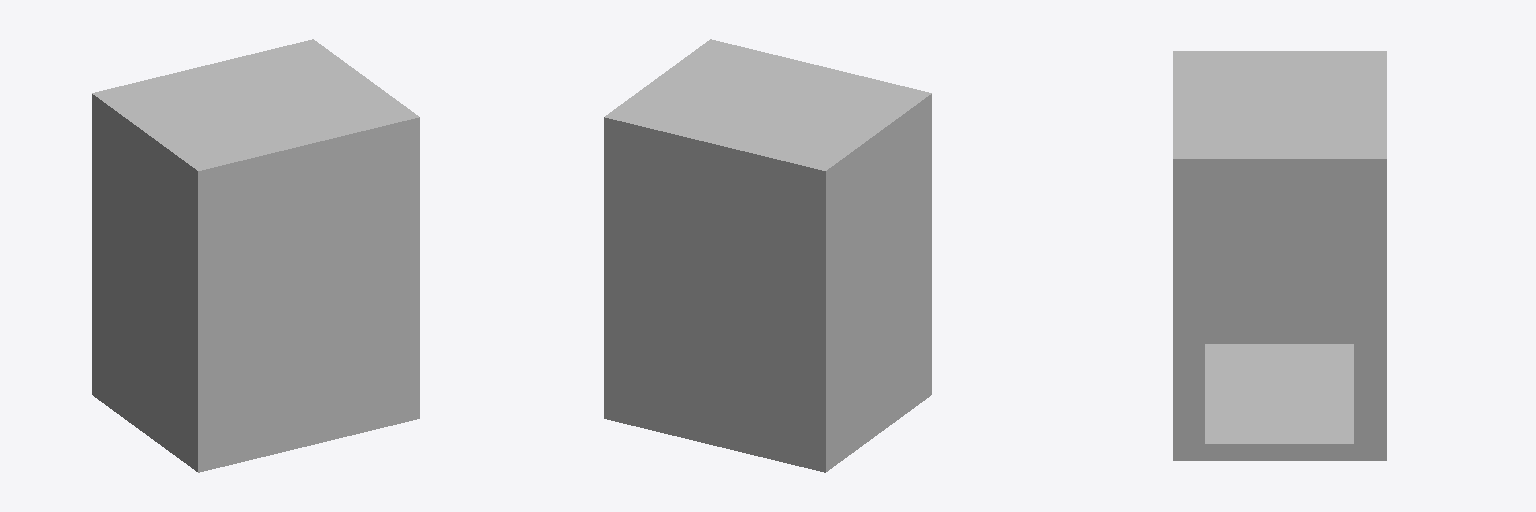
The model's file is Aufzug.obj.
The picture shows the model from 3 angles: view 1: azimuth 30°, elevation 25°; view 2: azimuth 150°, elevation 25°; view 3: azimuth 270°, elevation 25°; orthographic projection.
Visible parts, largest first — view 1: Cube_Cube.001; view 2: Cube_Cube.001; view 3: Cube_Cube.001.
Part boxes in pixels (x1,y1,x2,y2): Cube_Cube.001: (92, 39, 419, 472); Cube_Cube.001: (604, 39, 931, 472); Cube_Cube.001: (1173, 51, 1386, 460).
Bounding box in the file's own units: 5.72 × 7.43 × 4.76.